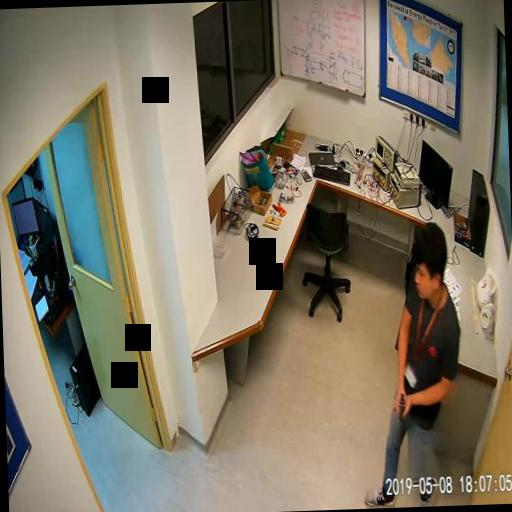Handgun: (391, 390, 406, 450)
